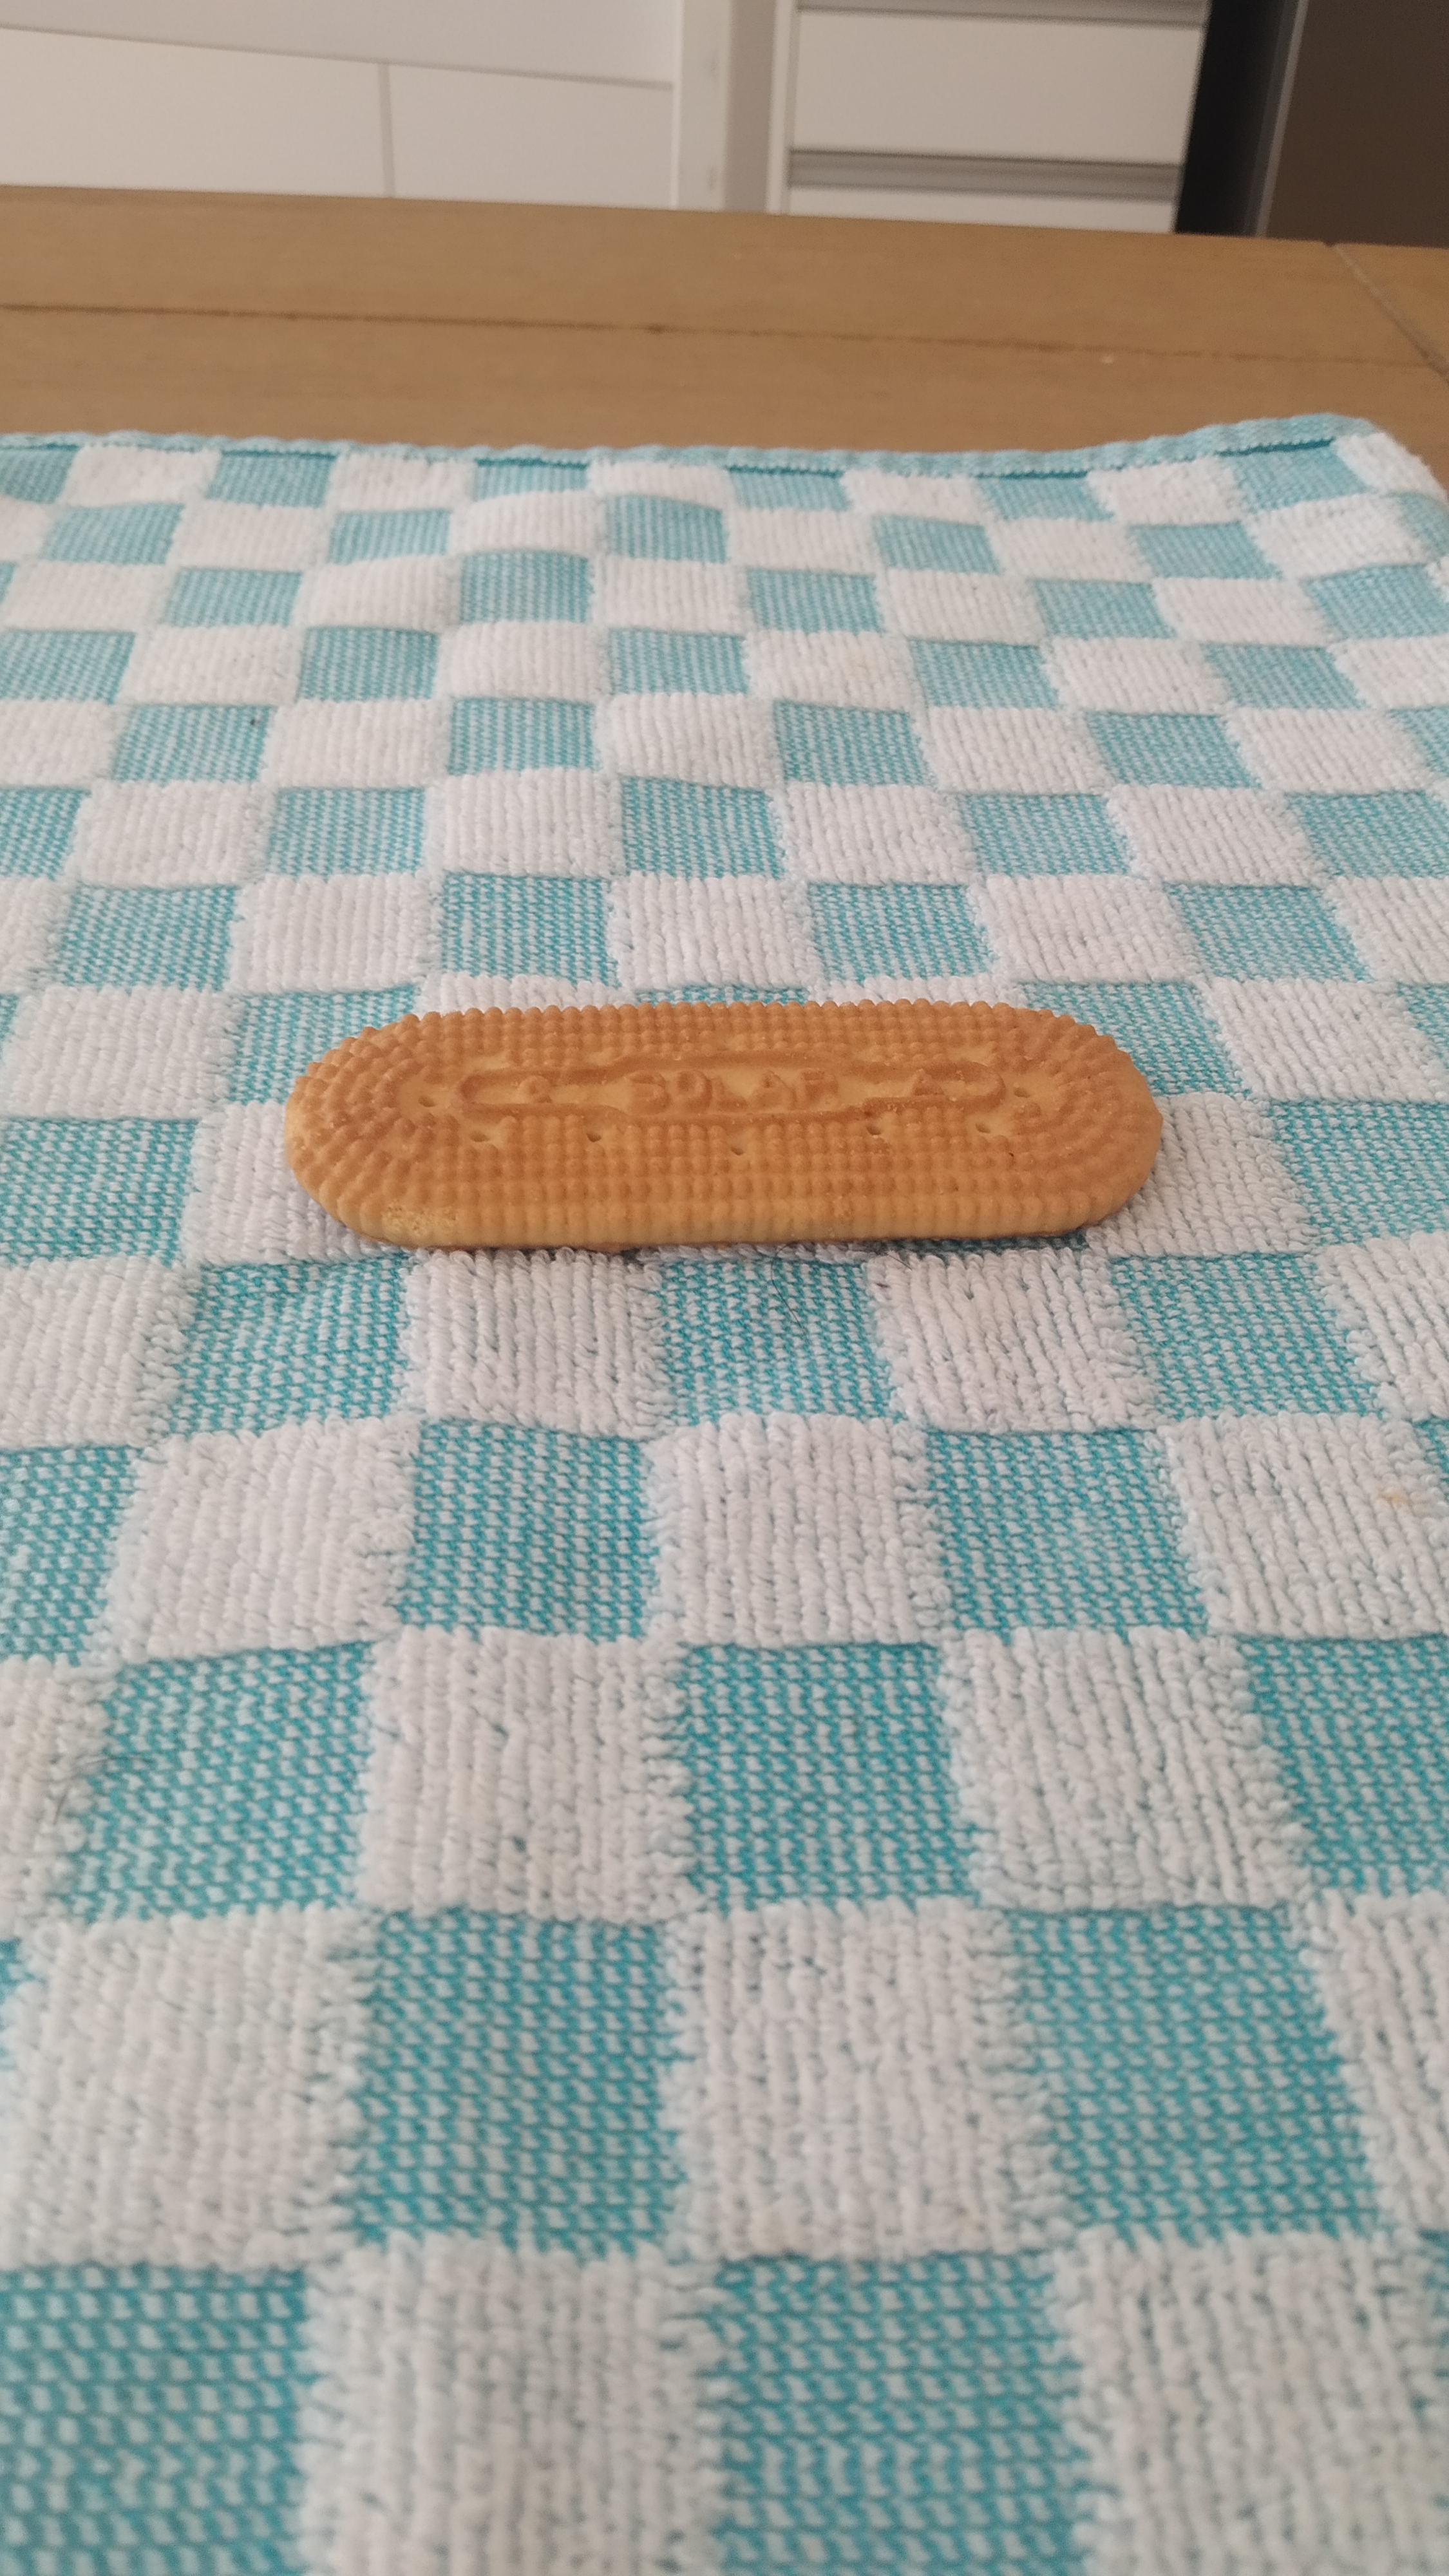solar: (288, 1000, 1164, 1247)
